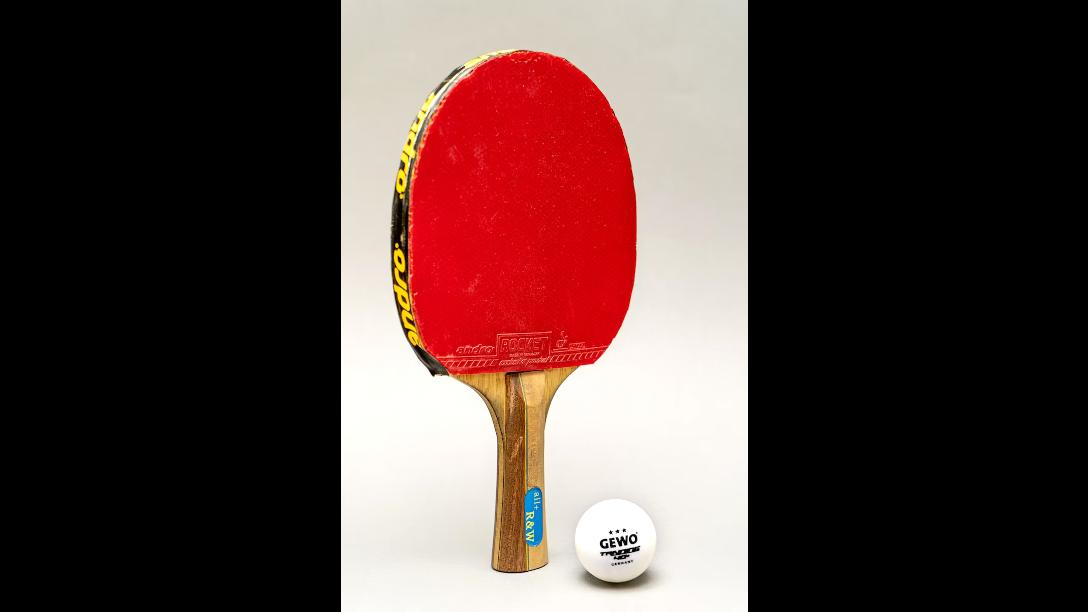Table-Tennis-Ball: (576, 498, 655, 582)
